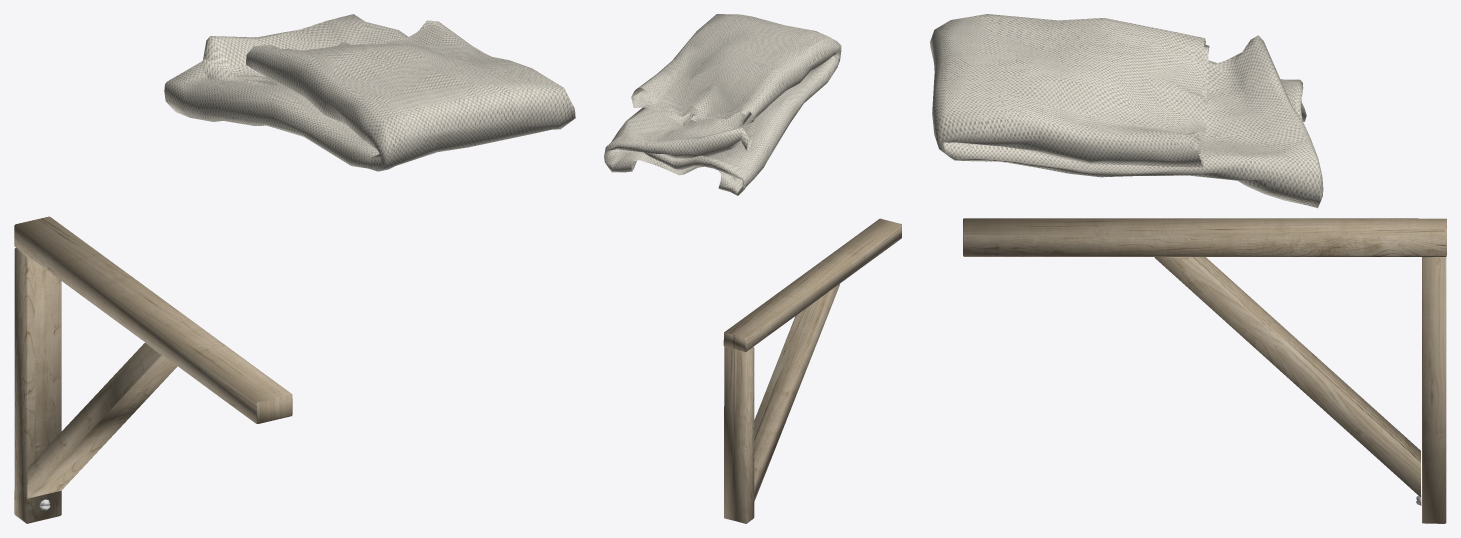
File: rod-cloth4449.glb
3 renders of one model, left to right at view 1: azimuth 30°, elevation 25°; view 2: azimuth 150°, elevation 25°; view 3: azimuth 270°, elevation 25°, orthographic. The views are drawn at different scales.
Parts seen in each view (by area): view 1: cloth4449.001, wood_hanger.001; view 2: cloth4449.001, wood_hanger.001; view 3: cloth4449.001, wood_hanger.001.
Part boxes in pixels (left/top/right/bottom): cloth4449.001: left=164, top=14, right=575, bottom=171; wood_hanger.001: left=14, top=216, right=292, bottom=523; cloth4449.001: left=604, top=14, right=841, bottom=195; wood_hanger.001: left=723, top=218, right=901, bottom=523; cloth4449.001: left=930, top=14, right=1323, bottom=208; wood_hanger.001: left=963, top=218, right=1446, bottom=523.
Bounding box in the file's own units: 0.2912 × 0.5015 × 0.4266.
Materials: 3 (2 with a texture image).
